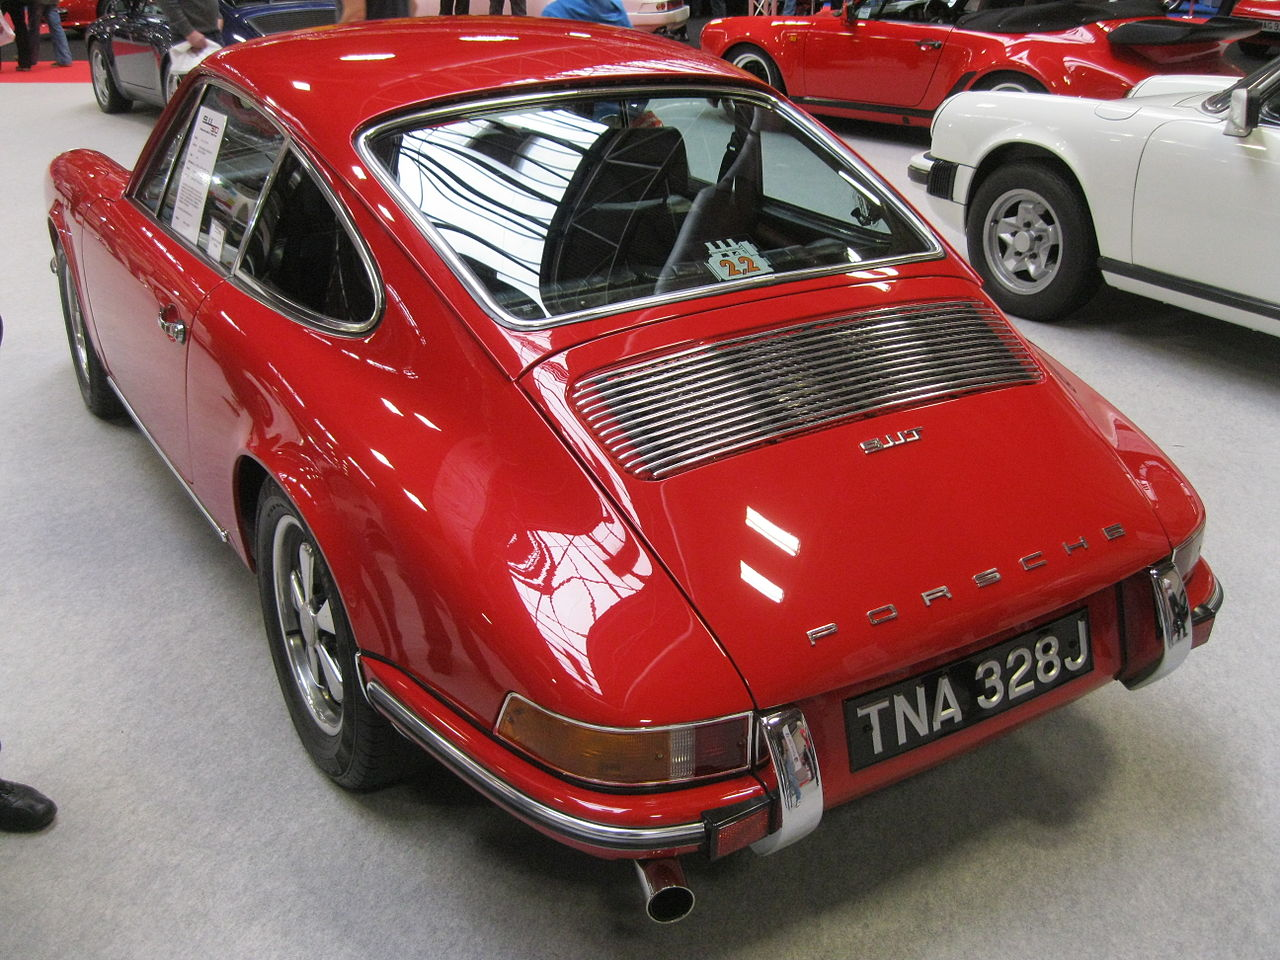plate: (841, 604, 1094, 774)
